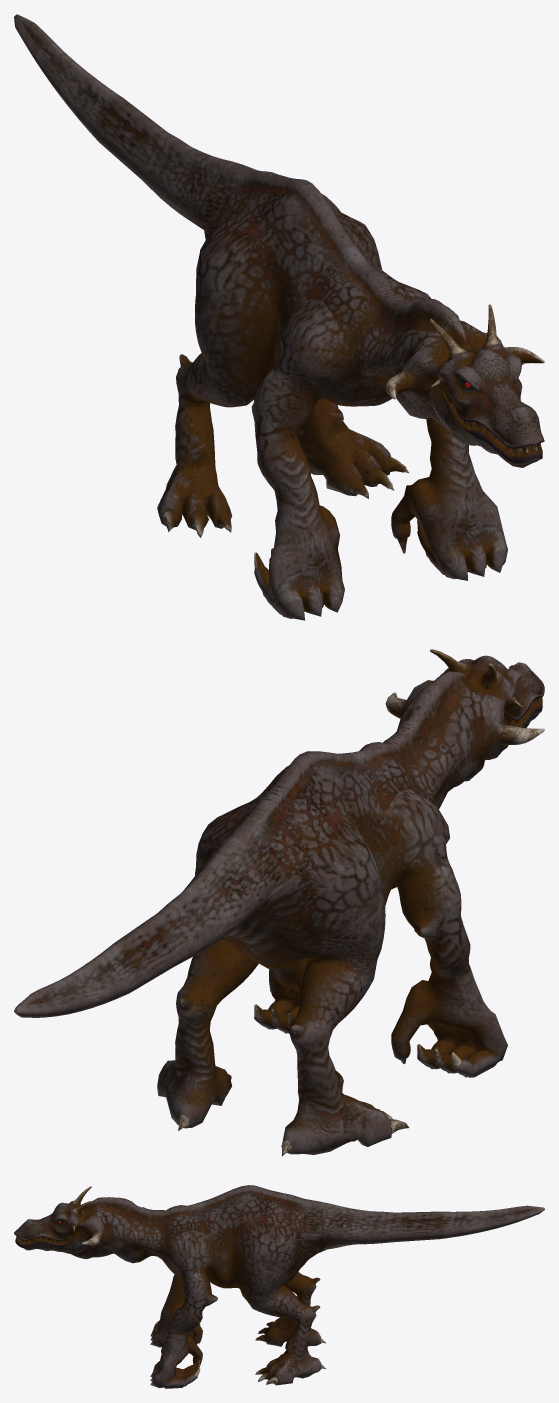
Rendered from Primal Beast.fbx.
3 views of the same model, one above another, from view 1: azimuth 30°, elevation 25°; view 2: azimuth 150°, elevation 25°; view 3: azimuth 270°, elevation 25° (orthographic). The views are drawn at different scales.
Parts seen in each view (by area): view 1: Naga; view 2: Naga; view 3: Naga.
Part boxes in pixels (x1,y1,x2,y2): Naga: [14, 14, 544, 620]; Naga: [14, 649, 544, 1156]; Naga: [14, 1185, 544, 1388].
Size of the model in its own units: 140 by 193 by 524.
